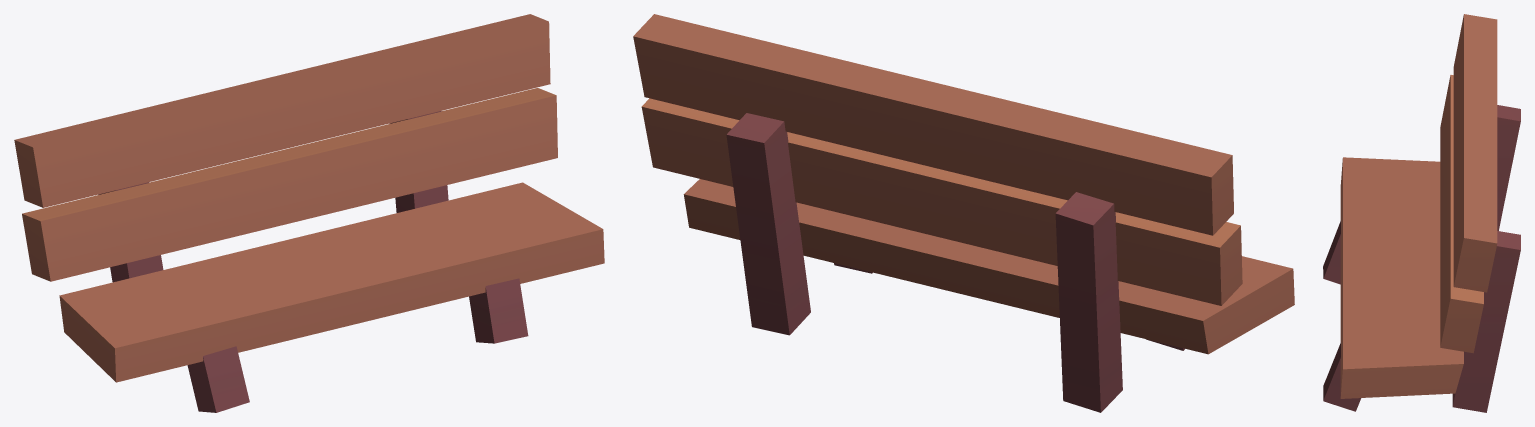
File: village_simple_bench.gltf
3 views of the same model, side by side, from view 1: azimuth 30°, elevation 25°; view 2: azimuth 150°, elevation 25°; view 3: azimuth 270°, elevation 25° (orthographic). The views are drawn at different scales.
Visible parts, largest first — view 1: Bench_Material.005_0 (×15); view 2: Bench_Material.005_0 (×15); view 3: Bench_Material.005_0 (×17).
Part boxes in pixels (left/top/right/bottom): Bench_Material.005_0 (×15): left=14, top=14, right=604, bottom=412; Bench_Material.005_0 (×15): left=633, top=14, right=1294, bottom=412; Bench_Material.005_0 (×17): left=1323, top=14, right=1520, bottom=412.
Size of the model in its own units: 0.7116 by 0.3245 by 0.2656.
Materials: 1 (1 with a texture image).
